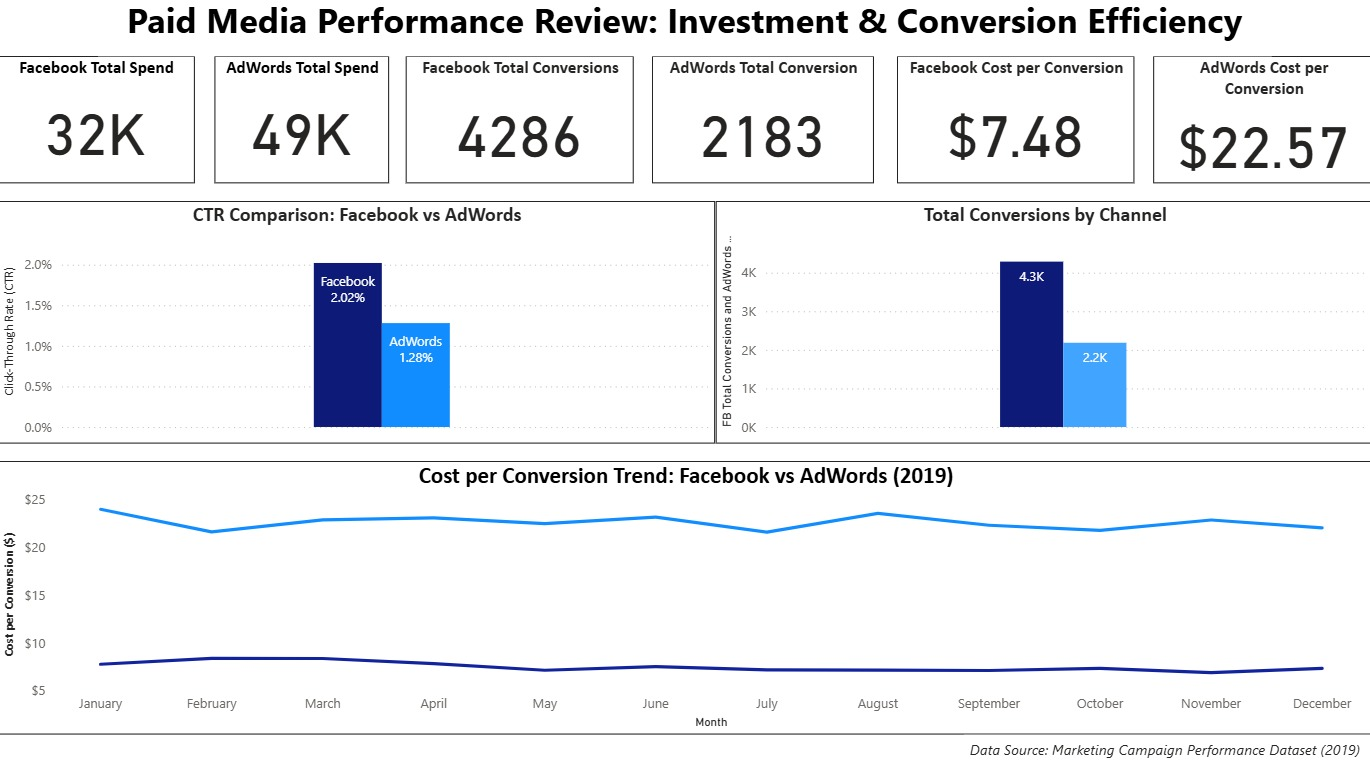

The dashboard page shown, as its layout file describes it:
{"tool":"powerbi","page":{"name":"FaceBook Vs AdWords","canvas":[1280,720],"ordinal":0},"visuals":[{"type":"card","title":"Facebook                         Total Spend","fields":{"Values":["marketing_campaign.FB Total Spend"]},"box":[0,60.9,183.7,118.3],"z":0},{"type":"card","title":"AdWords Total Spend","fields":{"Values":["marketing_campaign.AdWords Total Spend"]},"box":[201.8,60.9,162.3,118.3],"z":1000},{"type":"card","title":"AdWords Total Conversion","fields":{"Values":["marketing_campaign.AdWords Total Conversions"]},"box":[609.8,60.9,206.3,118.3],"z":2000},{"type":"card","title":"Facebook Total Conversions","fields":{"Values":["marketing_campaign.FB Total Conversions"]},"box":[379.8,60.9,211.9,118.3],"z":3000},{"type":"card","title":"Facebook Cost per Conversion","fields":{"Values":["marketing_campaign.FB Cost per Conversion"]},"box":[837.4,60.9,220.9,118.3],"z":4000},{"type":"card","title":"AdWords Cost per Conversion","fields":{"Values":["marketing_campaign.AdWords Cost per Conversion"]},"box":[1075.3,60.9,205.1,118.3],"z":5000},{"type":"textbox","box":[94.7,0,1091.1,60.9],"z":6000},{"type":"clusteredColumnChart","title":"CTR Comparison: Facebook vs AdWords","fields":{"Y":["marketing_campaign.FB CTR","marketing_campaign.AdWords CTR"]},"box":[0,195,668.4,225.4],"z":7000},{"type":"lineChart","title":"Cost per Conversion Trend: Facebook vs AdWords (2019)","fields":{"Category":["marketing_campaign.Date.Variation.Date Hierarchy.Month","marketing_campaign.Date.Variation.Date Hierarchy.Day"],"Y":["marketing_campaign.AdWords Cost per Conversion","marketing_campaign.FB Cost per Conversion"]},"box":[0,437.3,1280.4,254.7],"z":8000},{"type":"clusteredColumnChart","title":"Total Conversions by Channel","fields":{"Y":["marketing_campaign.FB Total Conversions","marketing_campaign.AdWords Total Conversions"]},"box":[668.4,195,612,225.4],"z":9000},{"type":"textbox","box":[900.6,692.1,379.8,28.2],"z":10000}]}

Visuals, with their boxes in screenshot pixels (x1, y1, x2, y2), scaled from the page's 1280x720 canvas onto the 1370x762 screenshot:
"Facebook                         Total Spend" card: [left=0, top=64, right=197, bottom=190]
"AdWords Total Spend" card: [left=216, top=64, right=390, bottom=190]
"AdWords Total Conversion" card: [left=653, top=64, right=873, bottom=190]
"Facebook Total Conversions" card: [left=407, top=64, right=633, bottom=190]
"Facebook Cost per Conversion" card: [left=896, top=64, right=1133, bottom=190]
"AdWords Cost per Conversion" card: [left=1151, top=64, right=1369, bottom=190]
textbox: [left=101, top=0, right=1269, bottom=64]
"CTR Comparison: Facebook vs AdWords" clusteredColumnChart: [left=0, top=206, right=715, bottom=445]
"Cost per Conversion Trend: Facebook vs AdWords (2019)" lineChart: [left=0, top=463, right=1369, bottom=732]
"Total Conversions by Channel" clusteredColumnChart: [left=715, top=206, right=1369, bottom=445]
textbox: [left=964, top=732, right=1369, bottom=761]
